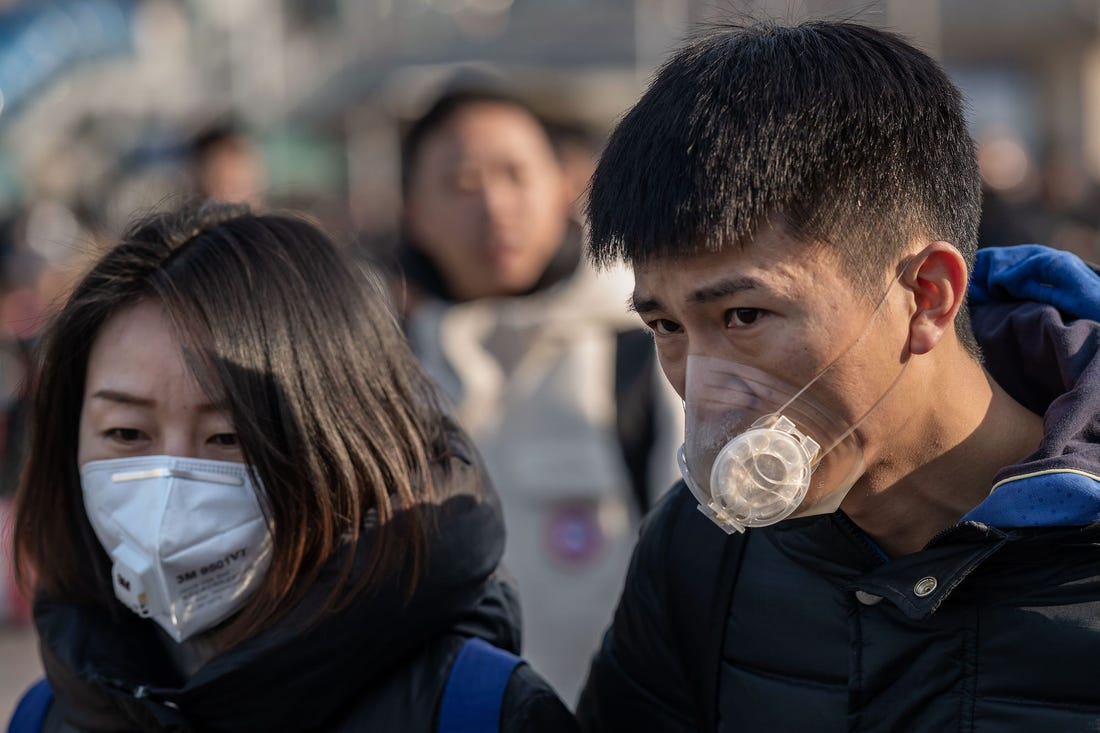n95: (633, 351, 878, 542), (68, 458, 278, 640)
